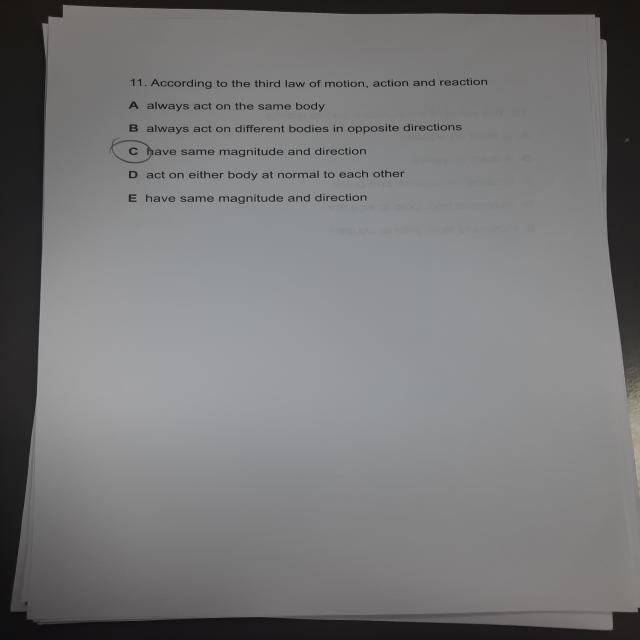C: (109, 141, 157, 166)
